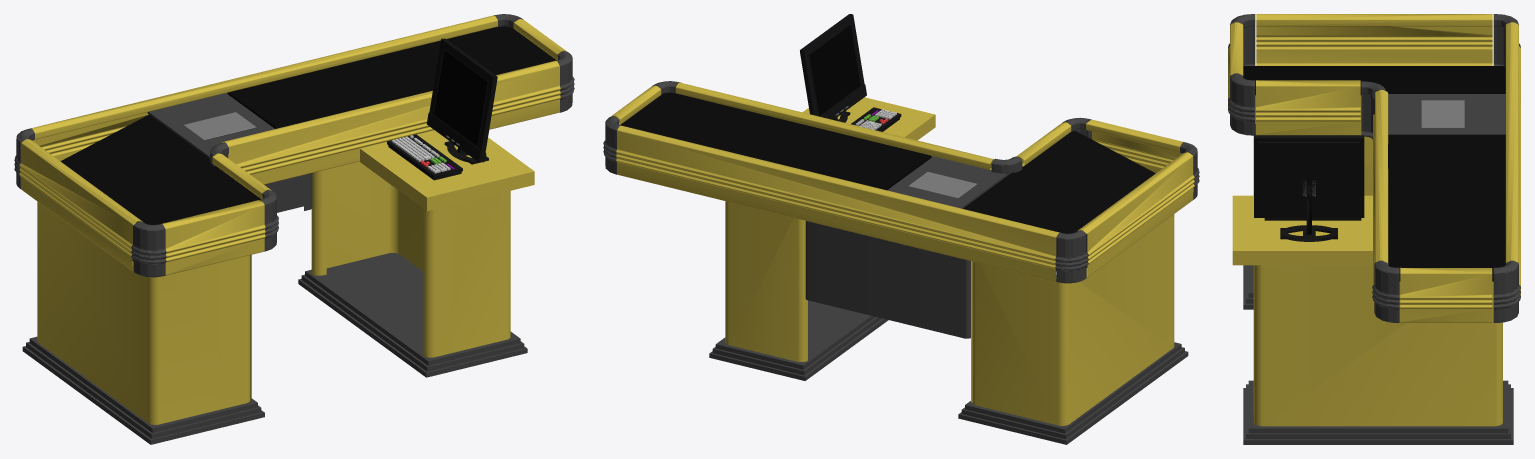
The model's file is grocery checking.FBX.
3 views of the same model, side by side, from view 1: azimuth 30°, elevation 25°; view 2: azimuth 150°, elevation 25°; view 3: azimuth 270°, elevation 25° (orthographic). The views are drawn at different scales.
Visible parts, largest first — view 1: Caisse epicerie; view 2: Caisse epicerie; view 3: Caisse epicerie.
Boxes of the visible parts, x1,y1,x2,y2 form: Caisse epicerie: (14,14,574,444); Caisse epicerie: (603,14,1199,444); Caisse epicerie: (1228,14,1520,444).
Size of the model in its own units: 20.95 by 11.03 by 9.93.
